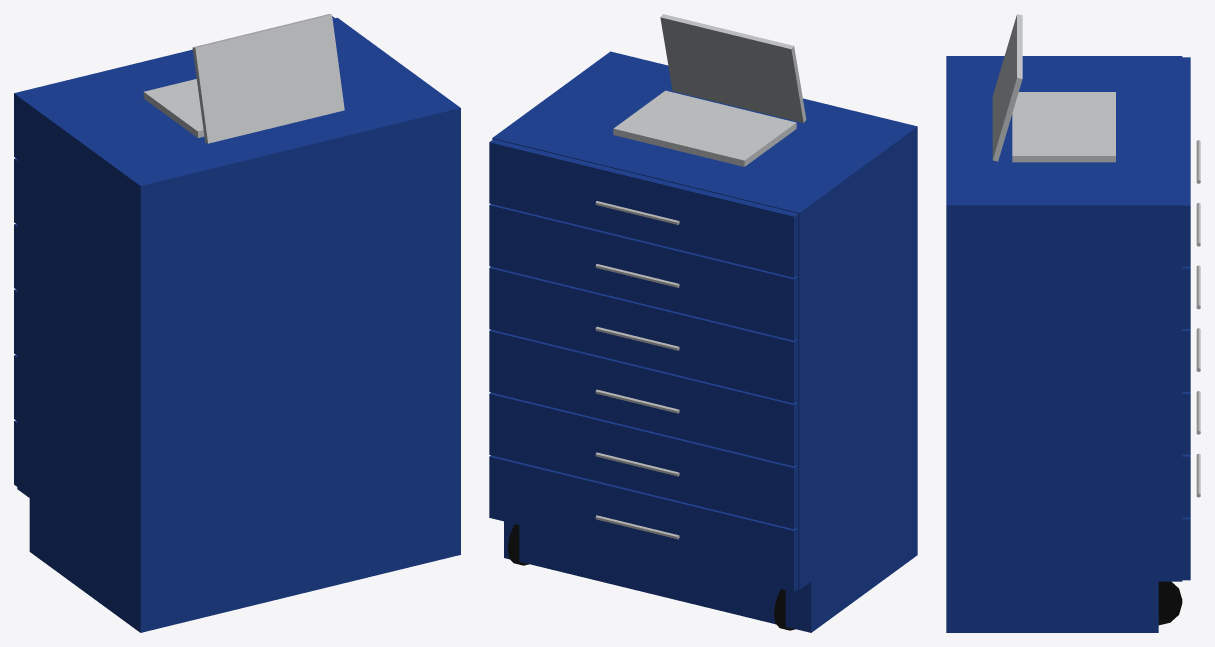
Rendered from hospital.ward.medicine_trolley.glb.
The picture shows the model from 3 angles, left to right: view 1: azimuth 30°, elevation 25°; view 2: azimuth 150°, elevation 25°; view 3: azimuth 270°, elevation 25°; orthographic projection. The views are drawn at different scales.
Parts seen in each view (by area): view 1: main__plastic_blue, main__aluminium; view 2: main__plastic_blue, main__aluminium, main__steel_stainless, main__rubber; view 3: main__plastic_blue, main__aluminium, main__steel_stainless, main__rubber.
Part boxes in pixels (<box>): main__plastic_blue: <box>14,16,460,632</box>; main__aluminium: <box>143,14,344,143</box>; main__plastic_blue: <box>489,51,917,632</box>; main__aluminium: <box>613,14,806,166</box>; main__steel_stainless: <box>595,201,679,539</box>; main__rubber: <box>507,524,795,630</box>; main__plastic_blue: <box>946,56,1190,632</box>; main__aluminium: <box>992,14,1115,162</box>; main__steel_stainless: <box>1196,140,1200,497</box>; main__rubber: <box>1158,581,1182,625</box>.
Size of the model in its own units: 0.75 by 1.2 by 0.5393.
